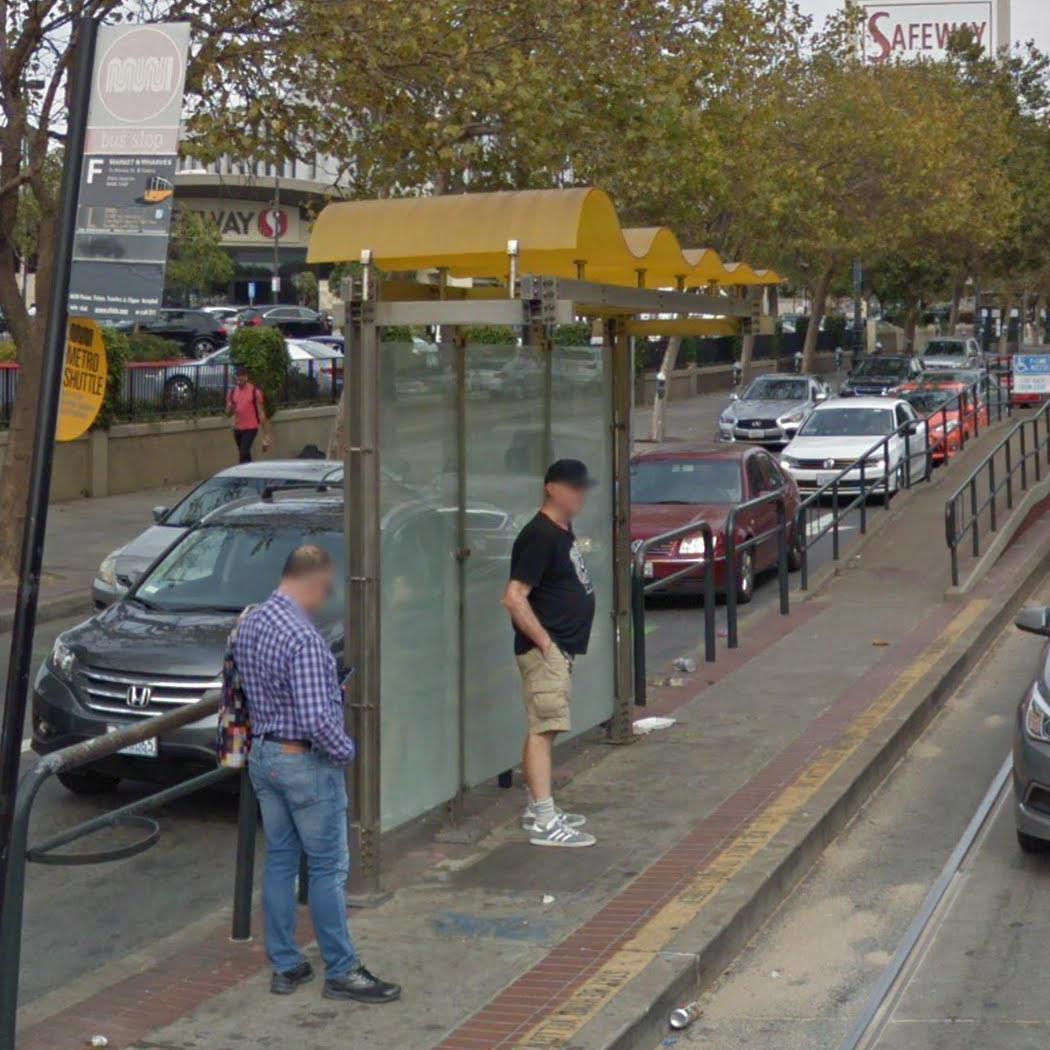Disabled Parking Only: (1010, 351, 1050, 396)
